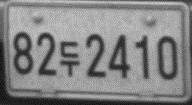0: (157, 35, 178, 81)
1: (134, 33, 151, 81)
2: (84, 33, 106, 78), (35, 32, 57, 76)
4: (107, 34, 131, 80)
8: (11, 31, 33, 75)
두: (59, 39, 81, 78)
